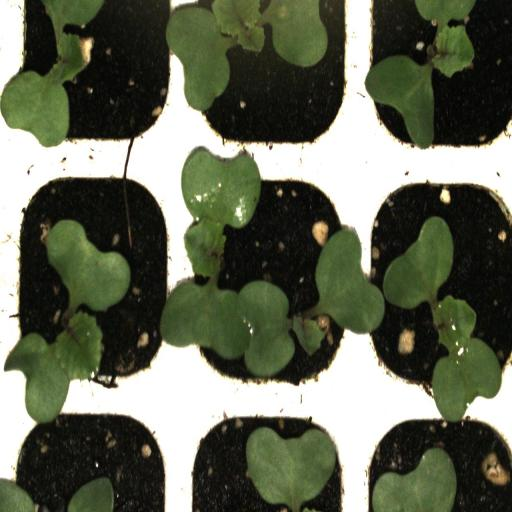Folha: (372, 447, 457, 512)
Germinacao: (175, 153, 363, 404), (9, 156, 173, 395), (363, 155, 512, 401), (184, 0, 361, 154), (9, 0, 185, 151), (362, 0, 512, 166)
